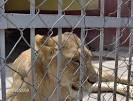lion: (11, 33, 99, 101)
